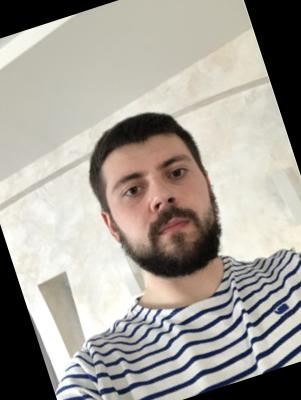without_mask: (103, 142, 236, 293)
